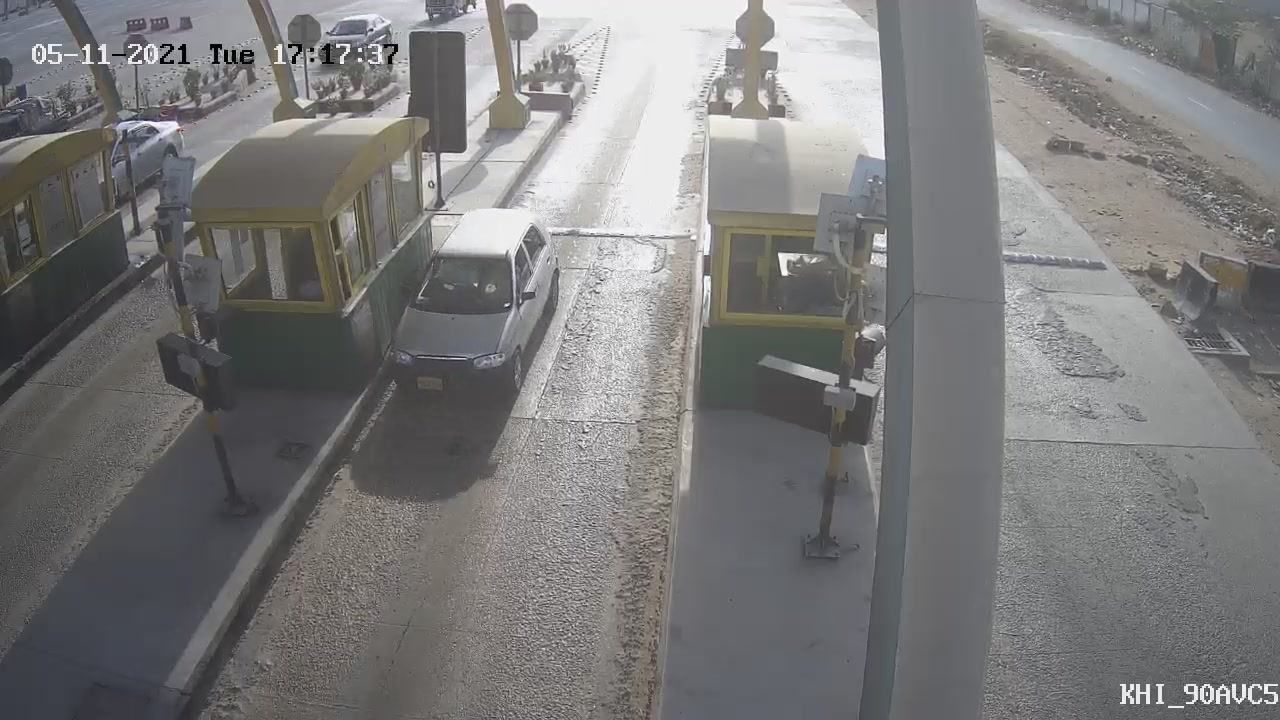F1: (366, 200, 579, 426)
